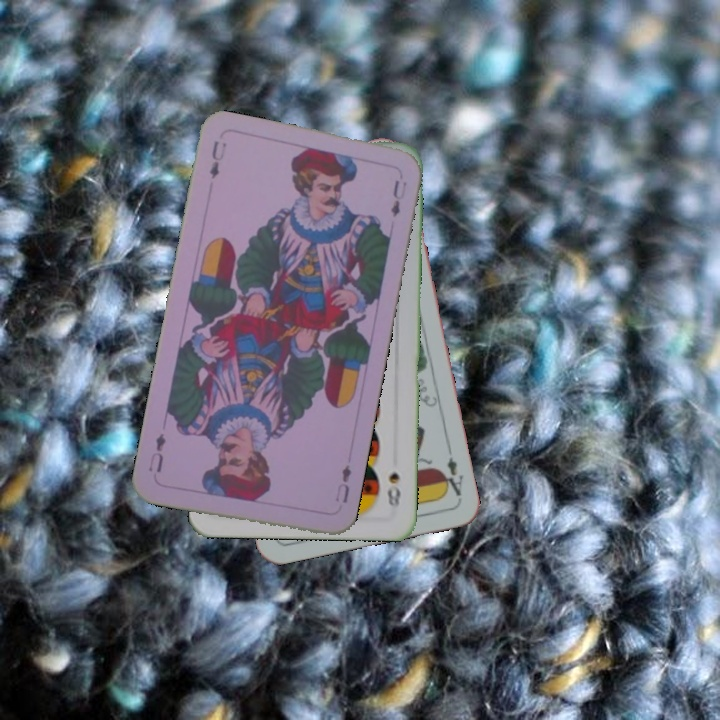EA: (437, 452, 466, 499)
EU: (205, 136, 229, 182), (331, 461, 354, 506)
S8: (383, 468, 403, 512)
